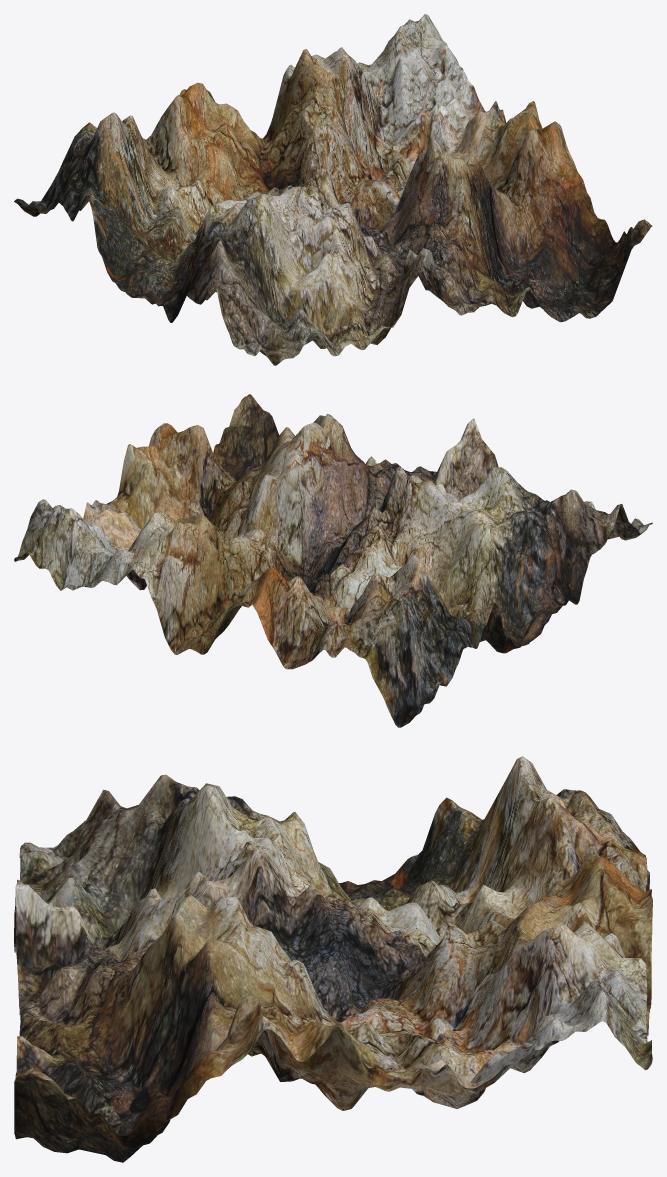
The model's file is landscape01.fbx.
The picture shows the model from 3 angles, top to bottom: view 1: azimuth 30°, elevation 25°; view 2: azimuth 150°, elevation 25°; view 3: azimuth 270°, elevation 25°; orthographic projection. The views are drawn at different scales.
Visible parts, largest first — view 1: Relief; view 2: Relief; view 3: Relief.
Part boxes in pixels (x1,y1,x2,y2): Relief: [14, 14, 652, 365]; Relief: [14, 394, 652, 727]; Relief: [14, 756, 652, 1162].
Size of the model in its own units: 4731 by 1647 by 4742.
